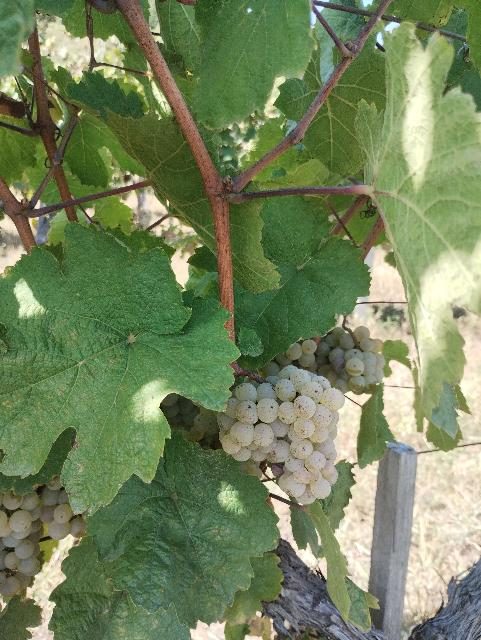grapes: (215, 365, 345, 505), (285, 326, 386, 394)
